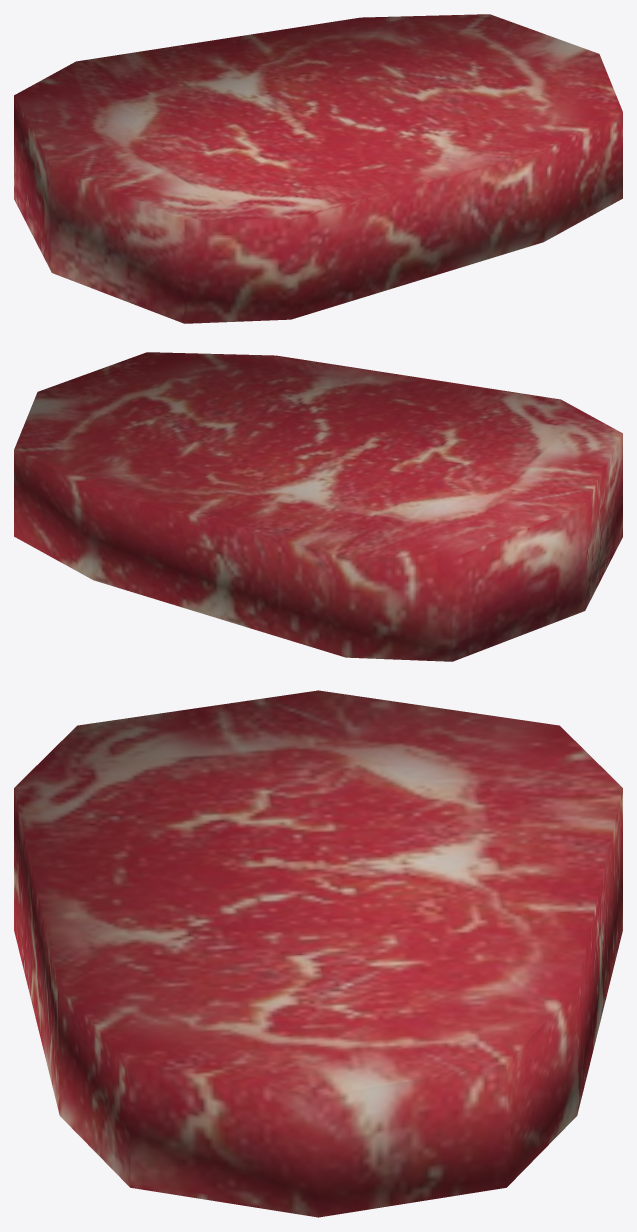
Rendered from Meat-col.glb.
3 renders of one model, top to bottom at view 1: azimuth 30°, elevation 25°; view 2: azimuth 150°, elevation 25°; view 3: azimuth 270°, elevation 25°, orthographic. The views are drawn at different scales.
Visible parts, largest first — view 1: Meat-col; view 2: Meat-col; view 3: Meat-col.
Part boxes in pixels (box(x1,y1,x2,y2)): Meat-col: box(14, 14, 622, 323); Meat-col: box(14, 352, 622, 661); Meat-col: box(14, 690, 622, 1217).
Bounding box in the file's own units: 0.3398 × 0.0625 × 0.2312.
Materials: 1 (1 with a texture image).
